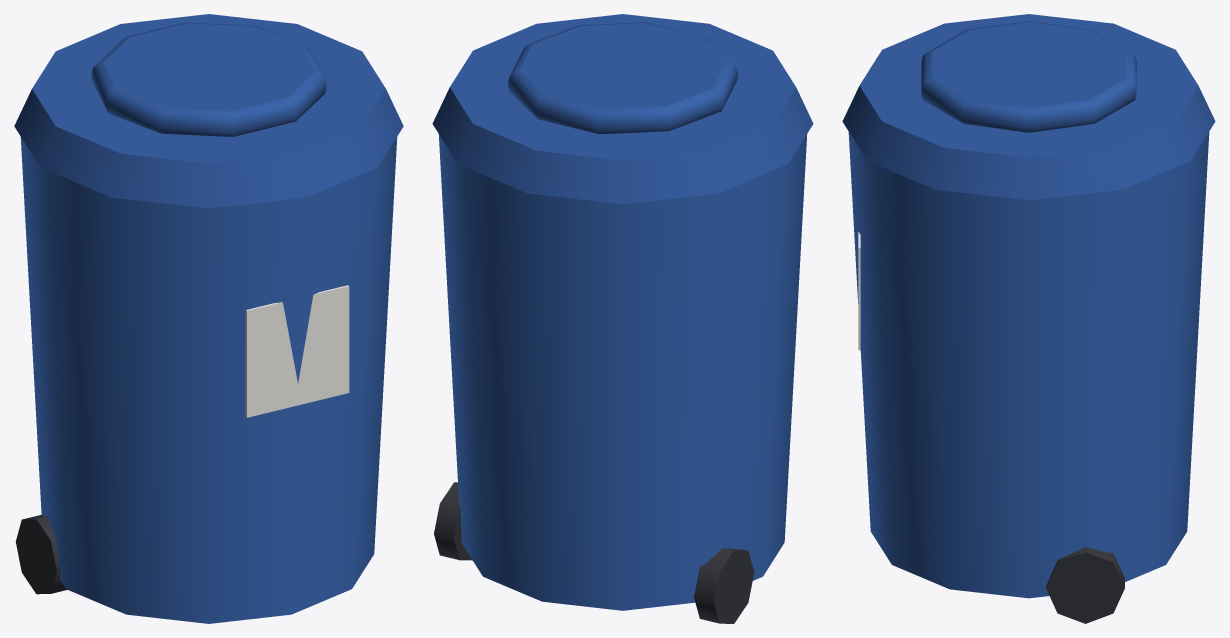
File: bin_blue.glb
3 views of the same model, side by side, from view 1: azimuth 30°, elevation 25°; view 2: azimuth 150°, elevation 25°; view 3: azimuth 270°, elevation 25° (orthographic). The views are drawn at different scales.
Parts seen in each view (by area): view 1: root; view 2: root; view 3: root.
Boxes of the visible parts, <box> form: root: <box>14,14,403,623</box>; root: <box>432,14,813,623</box>; root: <box>842,14,1215,623</box>.
Size of the model in its own units: 0.66 by 0.96 by 0.66.
